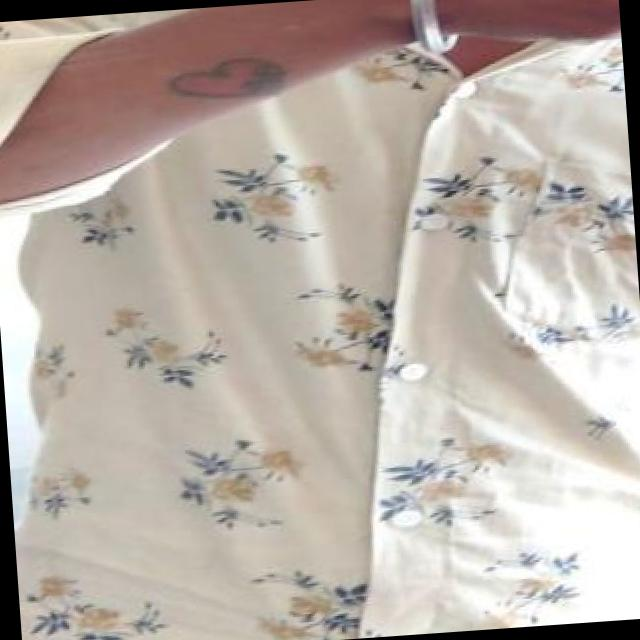Guns: (600, 0, 619, 17)
